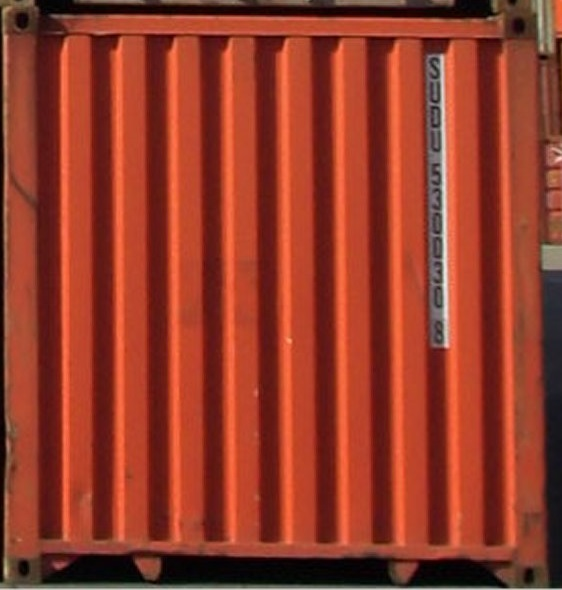container_no_door: (6, 8, 547, 589)
